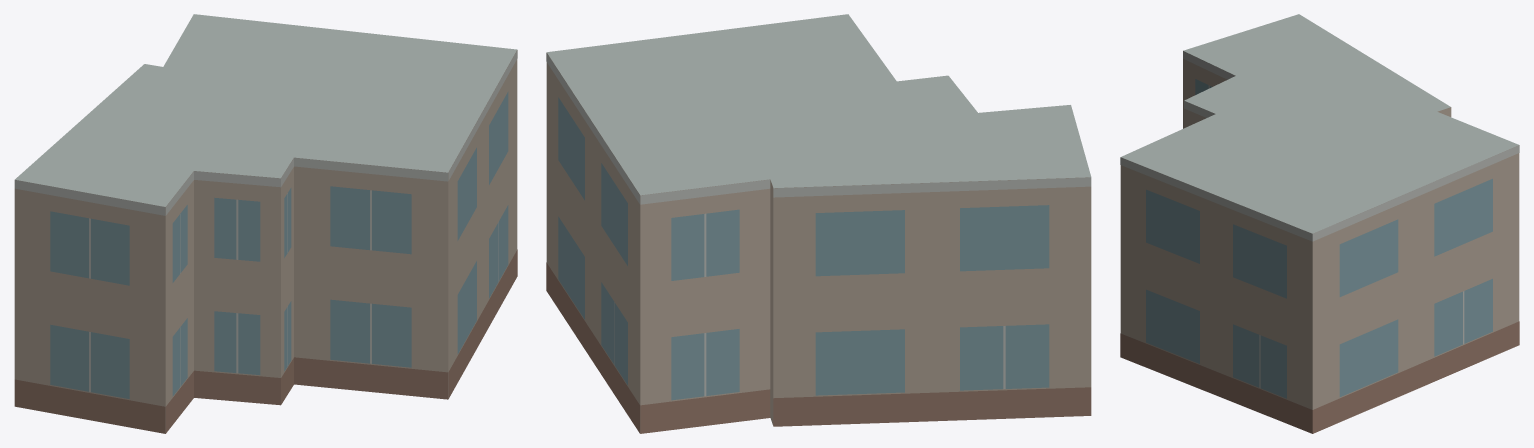
File: survey-upis-32594702.glb
3 views of the same model, side by side, from view 1: azimuth 30°, elevation 25°; view 2: azimuth 150°, elevation 25°; view 3: azimuth 270°, elevation 25° (orthographic). The views are drawn at different scales.
Parts seen in each view (by area): view 1: survey-upis-32594702.tmp; view 2: survey-upis-32594702.tmp; view 3: survey-upis-32594702.tmp.
Boxes of the visible parts, <box> form: survey-upis-32594702.tmp: <box>14,14,517,433</box>; survey-upis-32594702.tmp: <box>546,14,1091,433</box>; survey-upis-32594702.tmp: <box>1120,14,1519,433</box>.
Size of the model in its own units: 14.61 by 6.2 by 11.21.
